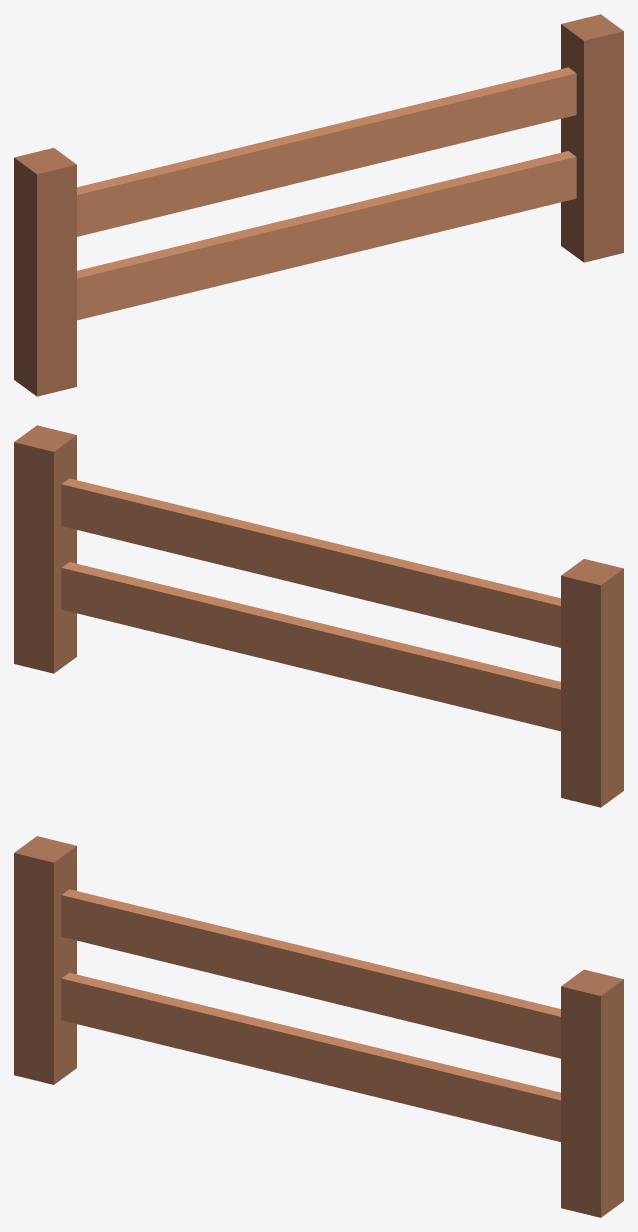
The model's file is Zabor1.fbx.
3 renders of one model, top to bottom at view 1: azimuth 30°, elevation 25°; view 2: azimuth 150°, elevation 25°; view 3: azimuth 330°, elevation 25°, orthographic.
Visible parts, largest first — view 1: Zabor1, Zabor1.004, Zabor1.003, Zabor1.002, Zabor1.001, Zabor root; view 2: Zabor1, Zabor1.004, Zabor1.003, Zabor1.002, Zabor1.001, Zabor root; view 3: Zabor1, Zabor1.004, Zabor1.001, Zabor1.002, Zabor1.003, Zabor root.
Part boxes in pixels (<box>): Zabor1: <box>14,27,623,396</box>; Zabor1.004: <box>103,167,510,312</box>; Zabor1.003: <box>14,148,155,354</box>; Zabor1.002: <box>515,14,623,220</box>; Zabor1.001: <box>160,77,537,215</box>; Zabor root: <box>14,207,623,392</box>; Zabor1: <box>14,436,623,807</box>; Zabor1.004: <box>127,578,533,723</box>; Zabor1.003: <box>482,559,623,765</box>; Zabor1.002: <box>14,425,122,631</box>; Zabor1.001: <box>100,488,484,622</box>; Zabor root: <box>14,618,623,802</box>; Zabor1: <box>14,847,623,1217</box>; Zabor1.004: <box>102,983,502,1127</box>; Zabor1.001: <box>152,917,536,1050</box>; Zabor1.002: <box>507,969,623,1176</box>; Zabor1.003: <box>14,836,155,1043</box>; Zabor root: <box>14,1028,623,1214</box>.
Bounding box in the file's own units: 2.48 × 0.8979 × 0.1689.
